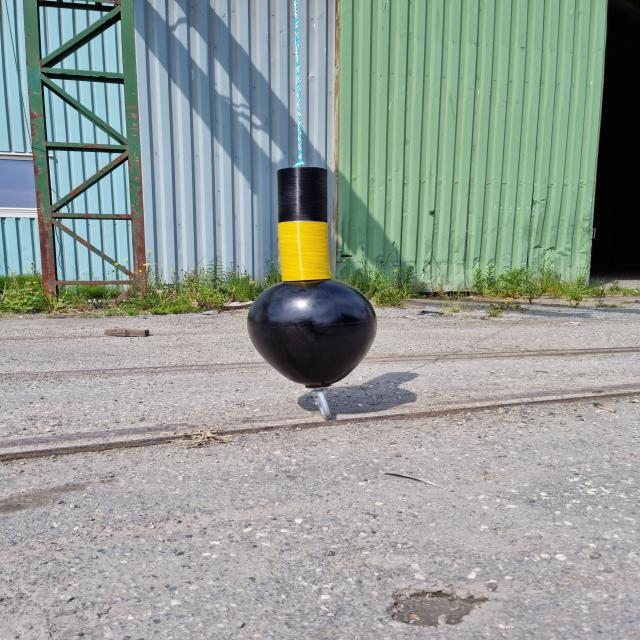east: (248, 166, 376, 388)
